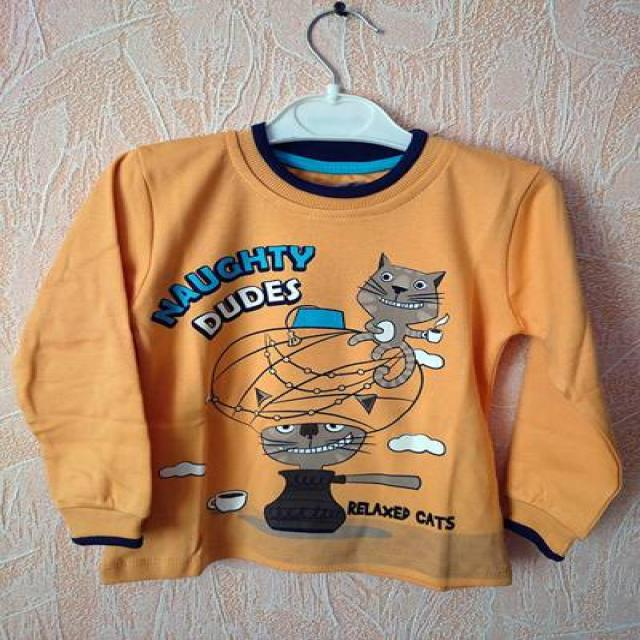Clothes -Biodegradable-: (4, 125, 620, 595)
